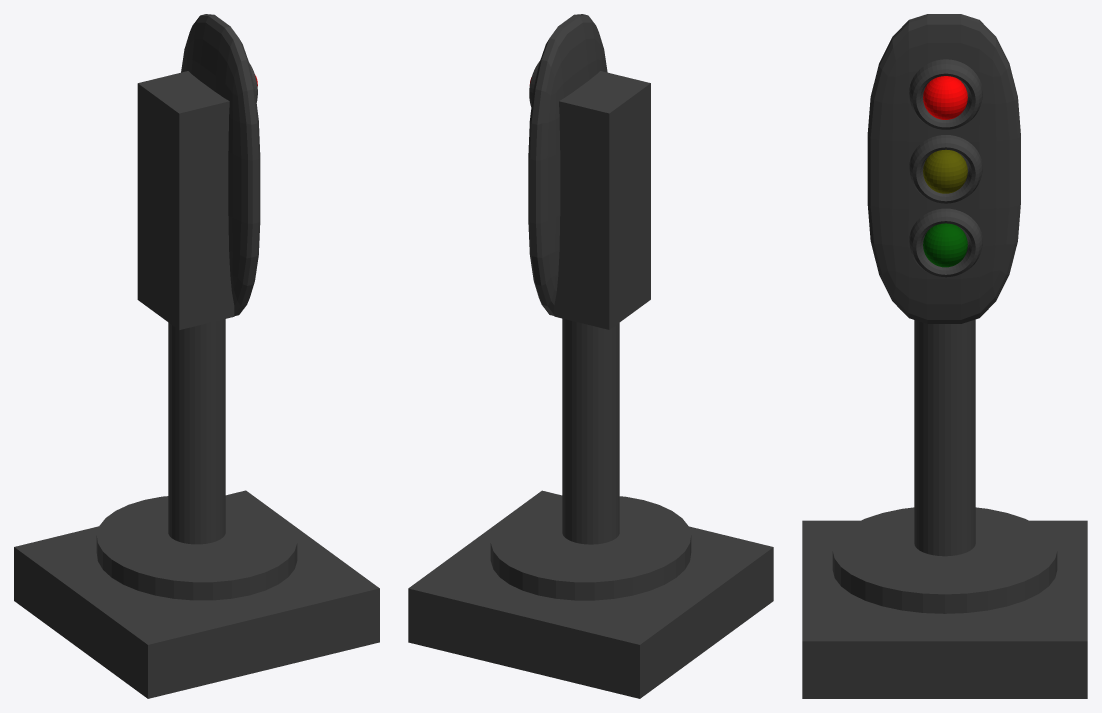
File: TL_red.fbx
3 renders of one model, left to right at view 1: azimuth 30°, elevation 25°; view 2: azimuth 150°, elevation 25°; view 3: azimuth 270°, elevation 25°, orthographic. The views are drawn at different scales.
Parts seen in each view (by area): view 1: Cube, Cube.002, Cylinder, Cylinder.001, Cube.001; view 2: Cube, Cube.002, Cylinder, Cylinder.001, Cube.001; view 3: Cube, Cube.001, Cylinder, Cylinder.001, R_TORUS, G_TORUS.002, Y_TORUS.001, G_LED, R_LED, Y_LED.
Boxes of the visible parts, x1,y1,x2,y2 form: Cube: [14, 490, 379, 698]; Cube.002: [137, 71, 234, 330]; Cylinder: [96, 496, 297, 600]; Cylinder.001: [168, 319, 225, 544]; Cube.001: [181, 14, 260, 316]; Cube: [408, 490, 773, 698]; Cube.002: [554, 71, 650, 329]; Cylinder: [490, 496, 691, 600]; Cylinder.001: [562, 318, 619, 544]; Cube.001: [528, 14, 607, 315]; Cube: [802, 520, 1087, 698]; Cube.001: [867, 14, 1020, 323]; Cylinder: [832, 507, 1057, 613]; Cylinder.001: [914, 319, 975, 556]; R_TORUS: [909, 59, 982, 129]; G_TORUS.002: [909, 208, 982, 277]; Y_TORUS.001: [909, 135, 982, 203]; G_LED: [923, 223, 967, 267]; R_LED: [923, 76, 967, 119]; Y_LED: [923, 149, 967, 193].
Size of the model in its own units: 54.91 by 135 by 54.91.
